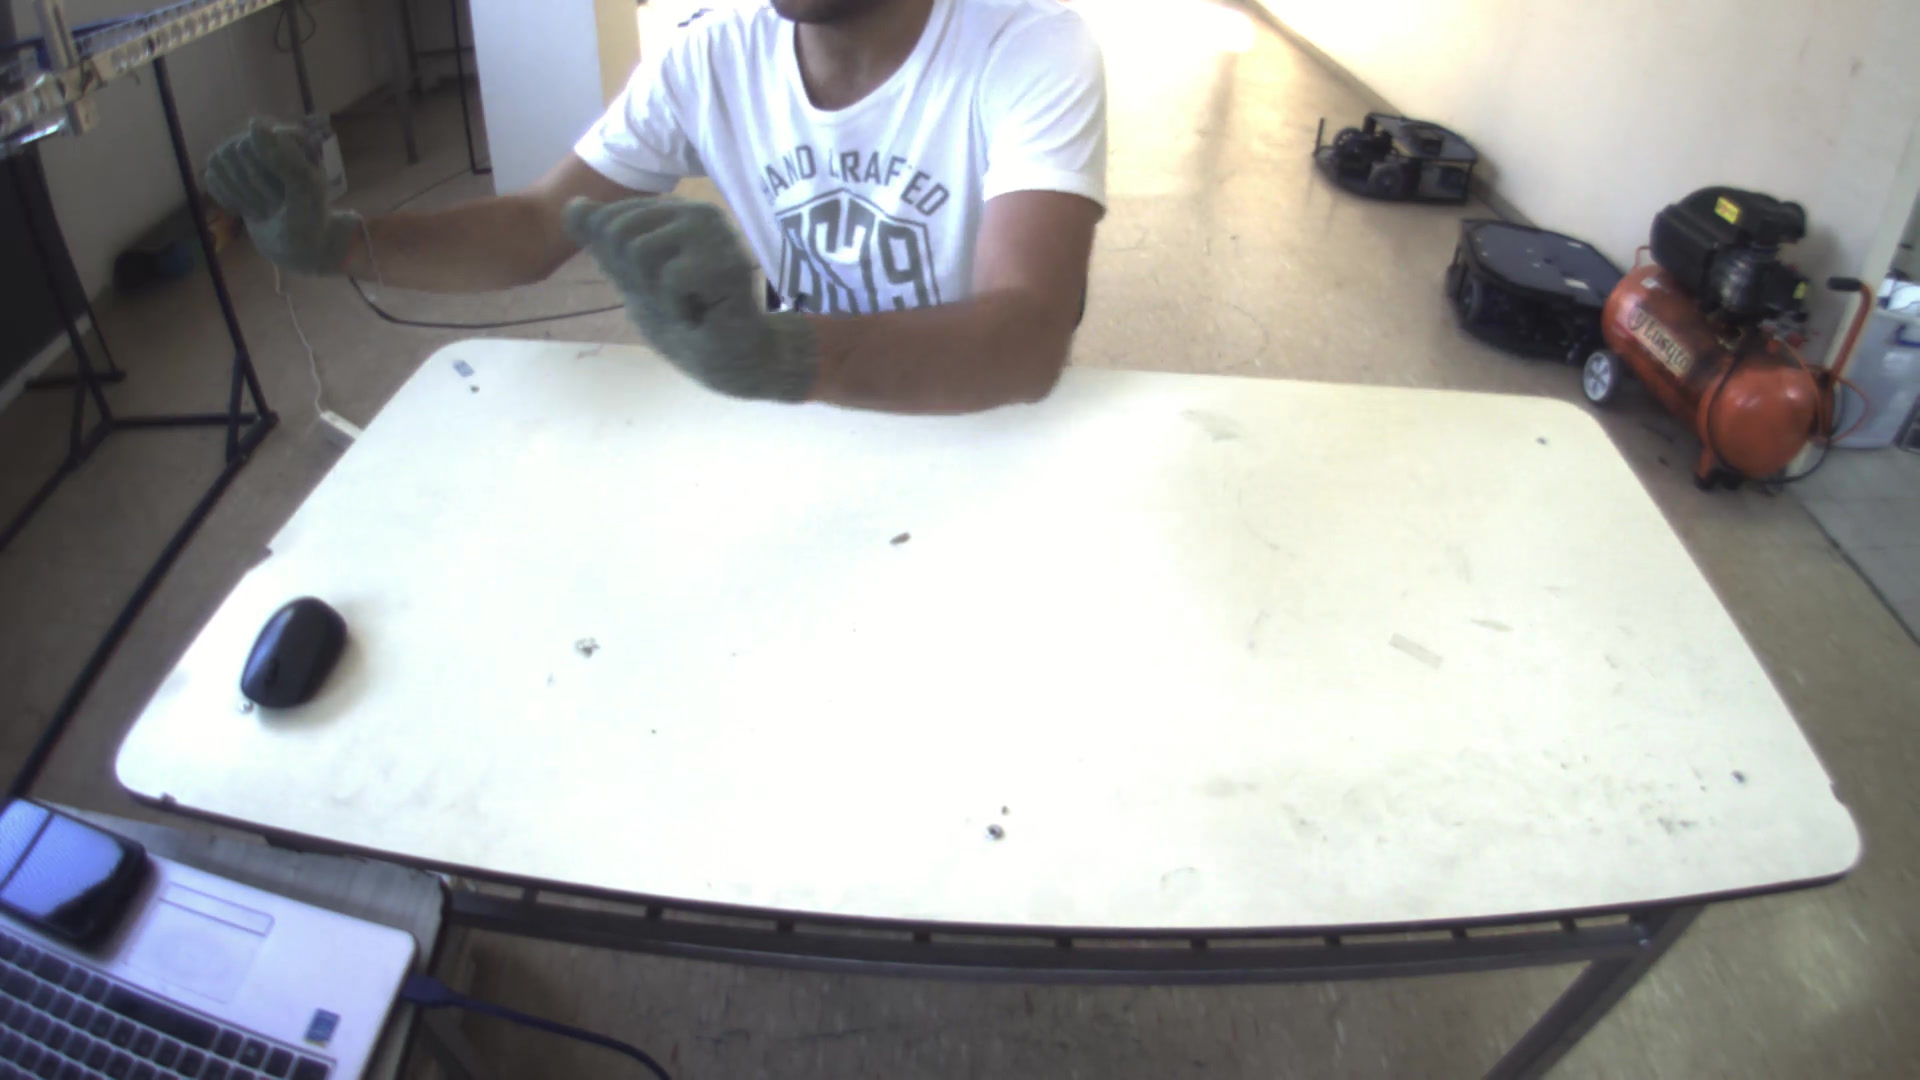hand: (559, 175, 827, 415), (190, 105, 359, 276)
